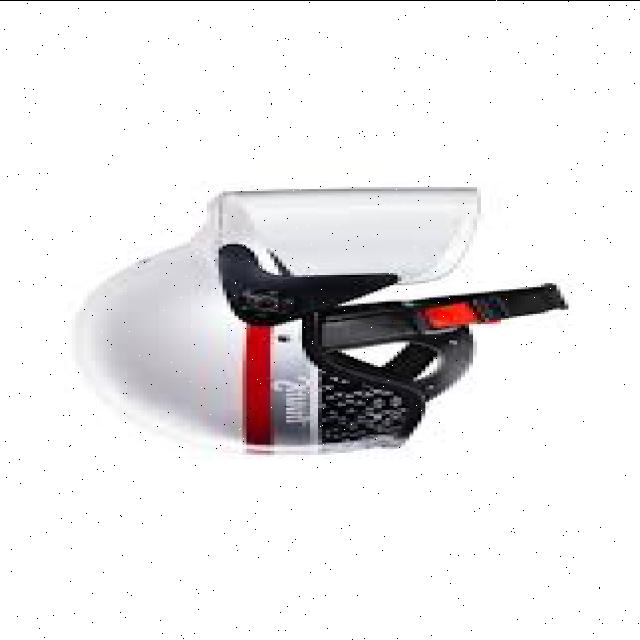Helmet: (73, 140, 513, 466)
